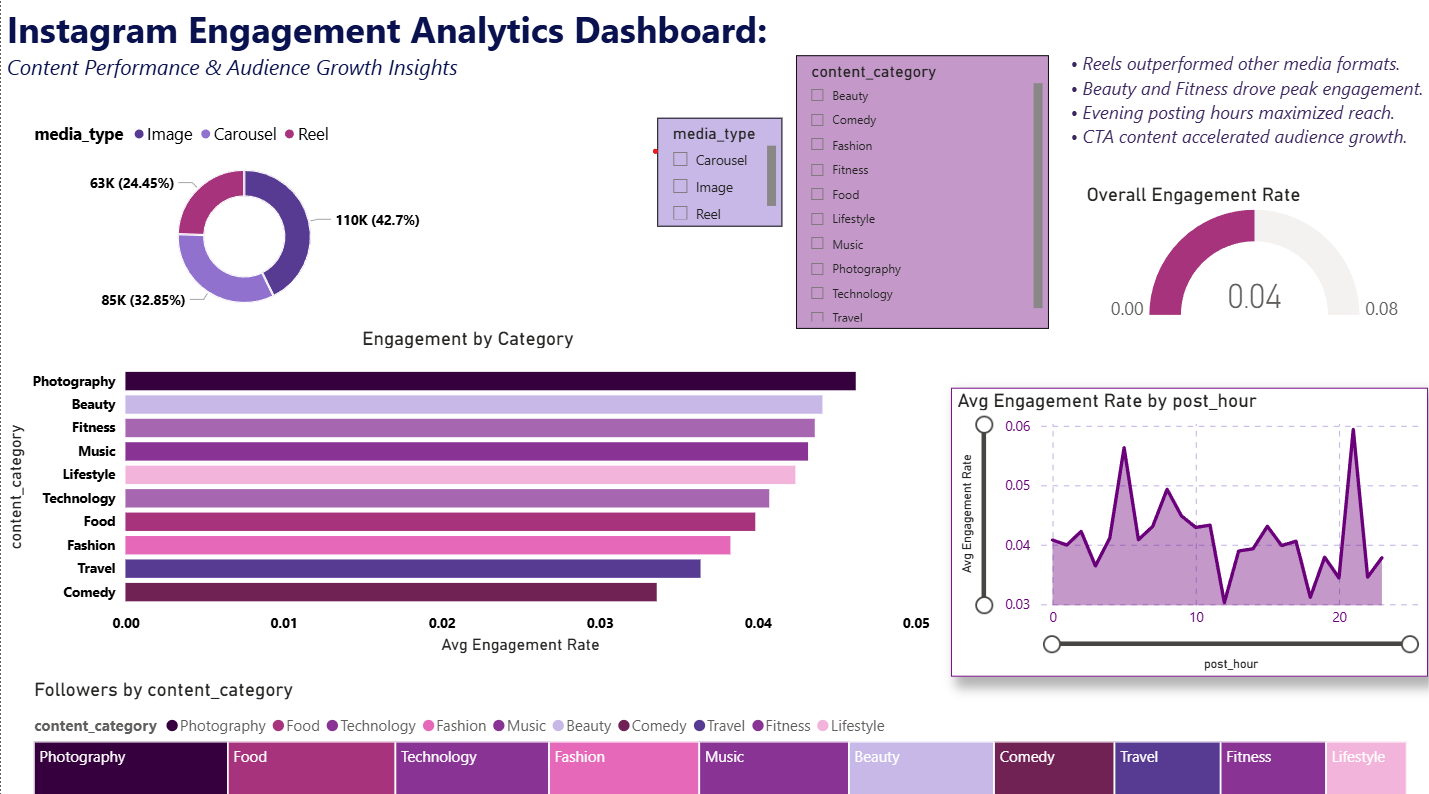

Layout of this report page (visuals, bound fields, positions):
{"tool":"powerbi","page":{"name":"Page 1","canvas":[1280,720],"ordinal":0},"visuals":[{"type":"clusteredBarChart","title":"Engagement by Category","fields":{"Category":["Instagram Engagement Analytics.content_category"],"Y":["Instagram Engagement Analytics.Avg Engagement Rate"]},"box":[0,291,830.3,295.9],"z":0},{"type":"donutChart","title":"Likes by media_type","fields":{"Category":["Instagram Engagement Analytics.media_type"],"Y":["Sum(Instagram Engagement Analytics.likes)"]},"box":[24.5,79.5,384,211.6],"z":1000},{"type":"treemap","title":"Followers by content_category","fields":{"Group":["Instagram Engagement Analytics.content_category"],"Values":["Sum(Instagram Engagement Analytics.followers_gained)"]},"box":[24.5,602.9,1230.2,117.4],"z":2000},{"type":"slicer","fields":{"Values":["Instagram Engagement Analytics.media_type"]},"box":[583.3,105.2,111.3,96.6],"z":3000},{"type":"slicer","fields":{"Values":["Instagram Engagement Analytics.content_category"]},"box":[706.8,50.1,225,243.3],"z":4000},{"type":"textbox","box":[0,0,694.6,100.3],"z":5000},{"type":"textbox","box":[945.2,41.6,335.1,107.6],"z":6000},{"type":"gauge","title":"Overall Engagement Rate","fields":{"Y":["Instagram Engagement Analytics.Avg Engagement Rate"]},"box":[960.6,163.3,308.7,127.6],"z":7000},{"type":"lineChart","fields":{"Y":["Instagram Engagement Analytics.Avg Engagement Rate"],"Category":["Instagram Engagement Analytics.post_hour"]},"box":[845,346.1,424.3,256.8],"z":8000}]}

Visuals, with their boxes in screenshot pixels (x1, y1, x2, y2), scaled from the page's 1280x720 canvas onto the 1429x794 screenshot:
"Engagement by Category" clusteredBarChart: (0,321,927,647)
"Likes by media_type" donutChart: (27,88,456,321)
"Followers by content_category" treemap: (27,665,1401,793)
slicer - Instagram Engagement Analytics.media_type: (651,116,775,223)
slicer - Instagram Engagement Analytics.content_category: (789,55,1040,324)
textbox: (0,0,775,111)
textbox: (1055,46,1428,165)
"Overall Engagement Rate" gauge: (1072,180,1417,321)
lineChart - Instagram Engagement Analytics.Avg Engagement Rate x Instagram Engagement Analytics.post_hour: (943,382,1417,665)
